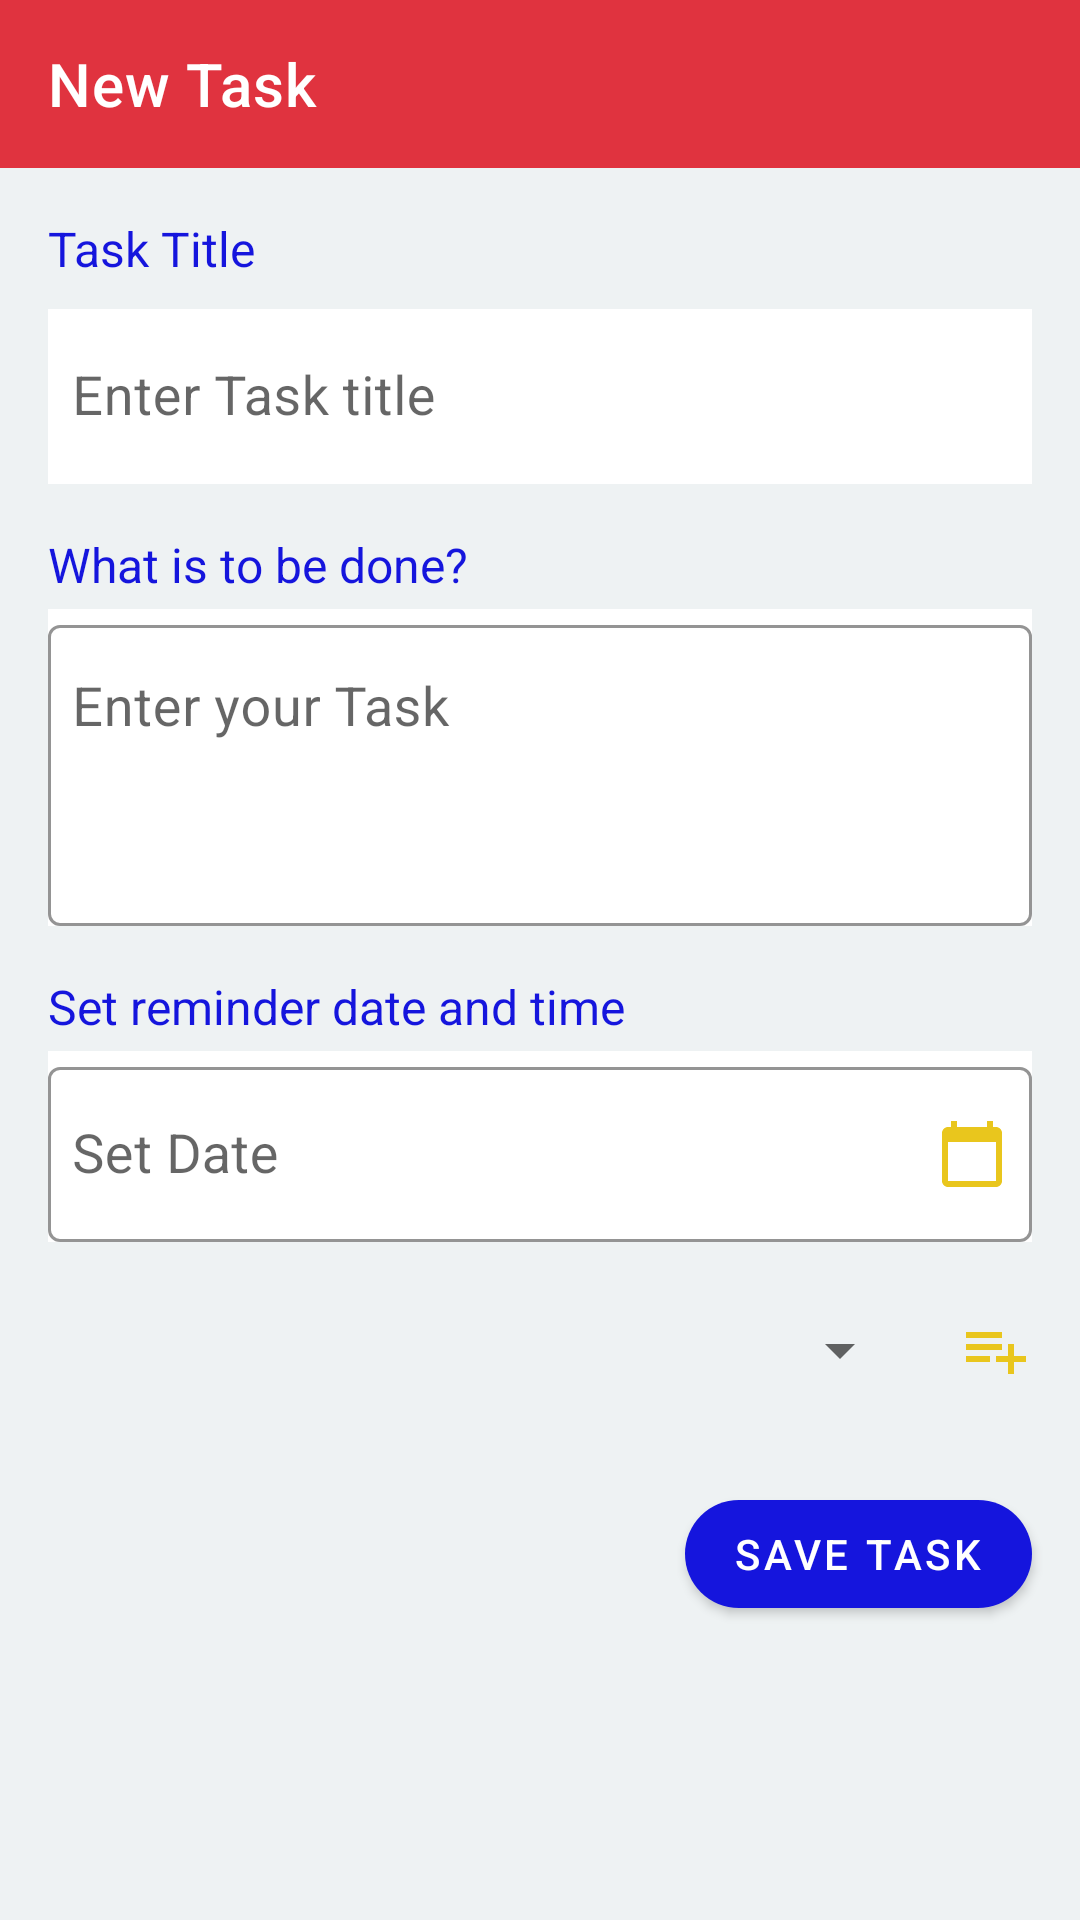

Locate icon controls on the screen. Image size 1080*1920, boxes as (left=x1, top=y1, right=x2, bottom=y2).
addcatagory: (left=966, top=1332, right=1026, bottom=1374)
